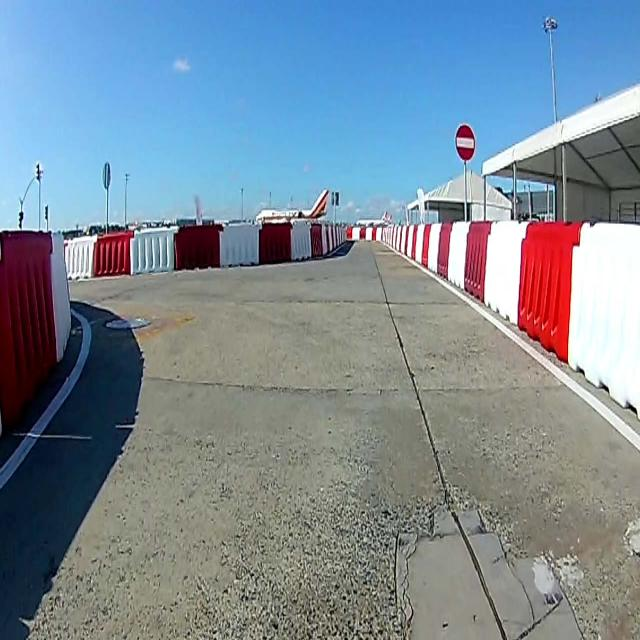girisyok: (454, 122, 476, 162)
